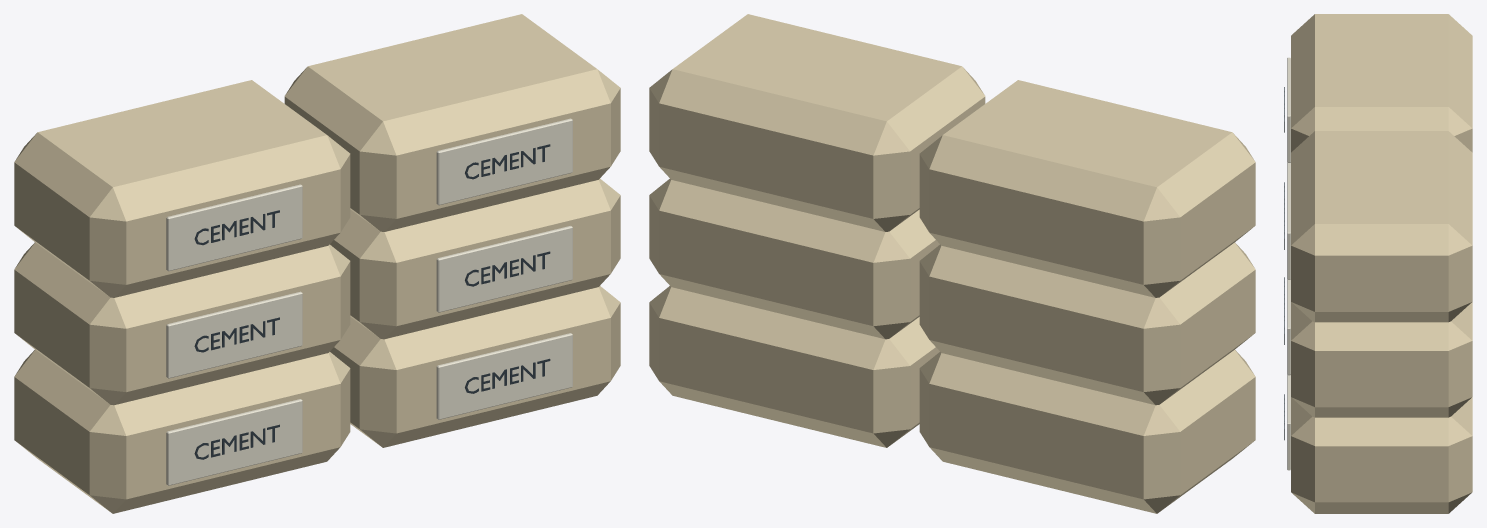
File: Cement_Bag_Stack.glb
The picture shows the model from 3 angles, left to right: view 1: azimuth 30°, elevation 25°; view 2: azimuth 150°, elevation 25°; view 3: azimuth 270°, elevation 25°; orthographic projection. The views are drawn at different scales.
Parts seen in each view (by area): view 1: Cement_Bag_Stack; view 2: Cement_Bag_Stack; view 3: Cement_Bag_Stack.
Part boxes in pixels (x1=…): Cement_Bag_Stack: x1=14, y1=14, x2=620, y2=513; Cement_Bag_Stack: x1=649, y1=14, x2=1255, y2=513; Cement_Bag_Stack: x1=1284, y1=14, x2=1472, y2=513.
Size of the model in its own units: 1.14 by 0.67 by 0.3937.
